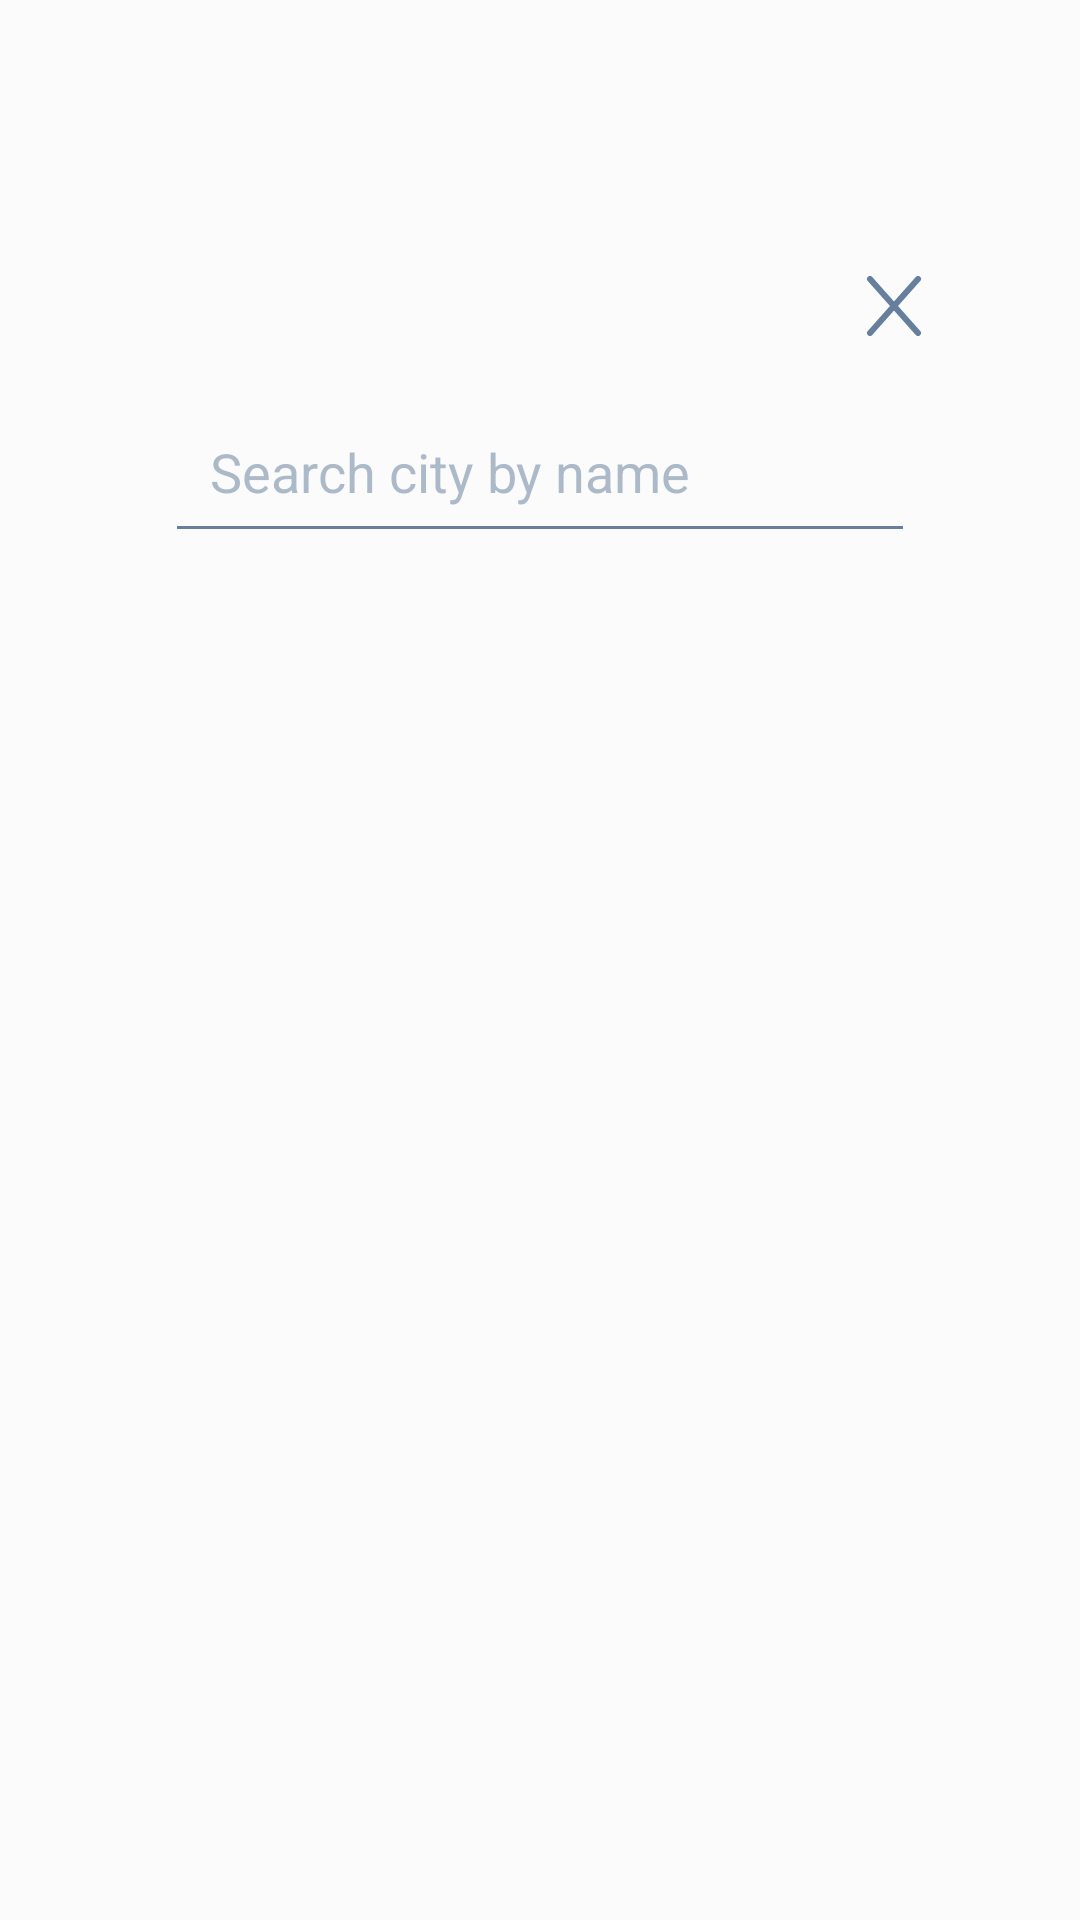

Screen size 1080w x 1920h. Icon name, then its center in pixels as (x=x, y=y):
close: (x=894, y=306)
